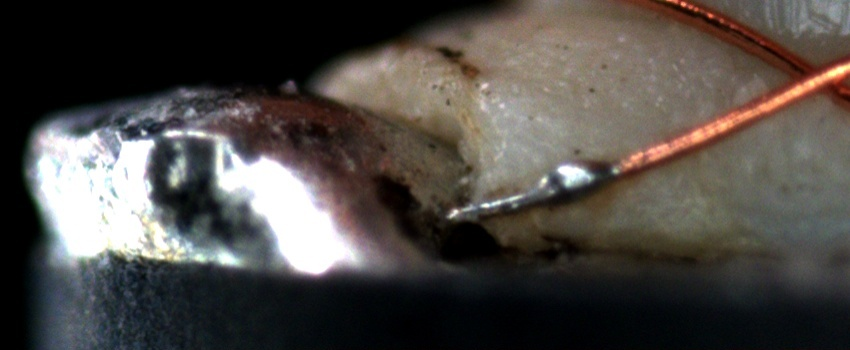CL: (768, 46, 848, 108)
TB: (533, 153, 613, 210)
TS: (447, 158, 621, 223)
TTCW: (435, 131, 689, 229)
